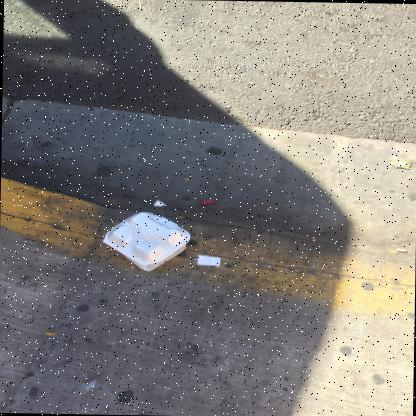Cigarette: (388, 249, 399, 254), (395, 248, 406, 251)
Foam food container: (102, 211, 190, 271)
Other plastic: (200, 198, 214, 205)
Plastic film: (72, 380, 113, 397)
Unlabeled litter: (197, 254, 221, 266), (154, 200, 165, 206)
